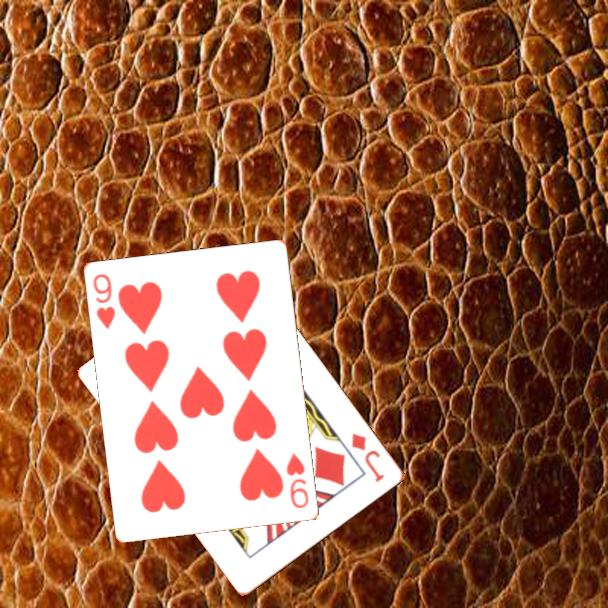d11: (348, 429, 388, 485)
h09: (283, 449, 312, 512), (90, 270, 119, 333)
